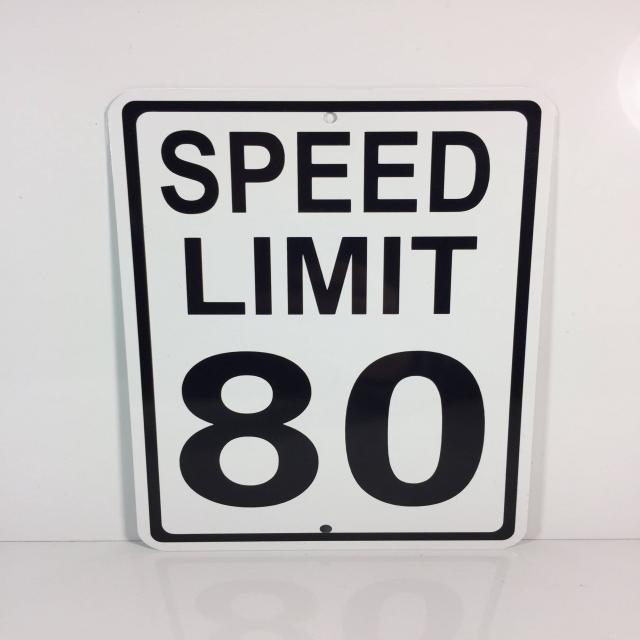speedLimit80: (98, 91, 541, 565)
